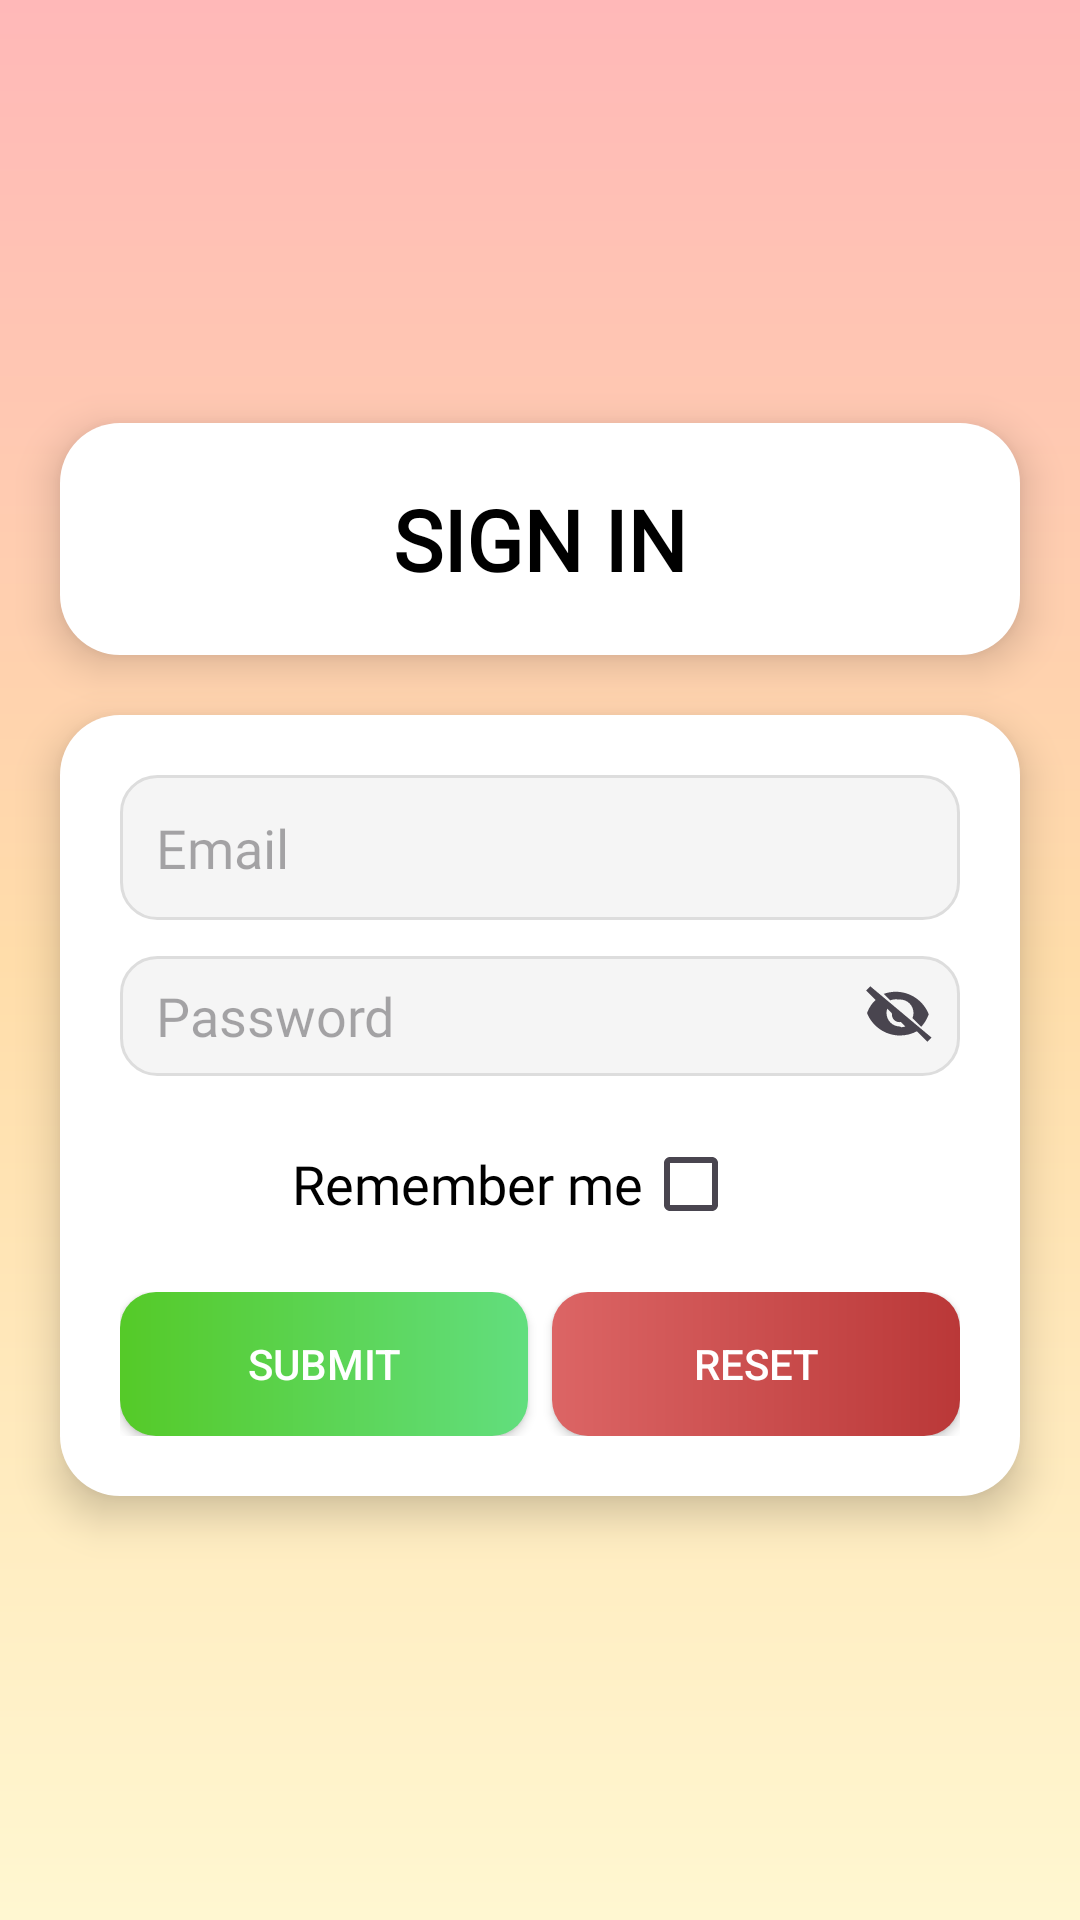

Named icons in this screenshot (1080px x 1920px) and their bounding boxes, (x1,y1,x2,y2):
eye off: (866,986,932,1042)
